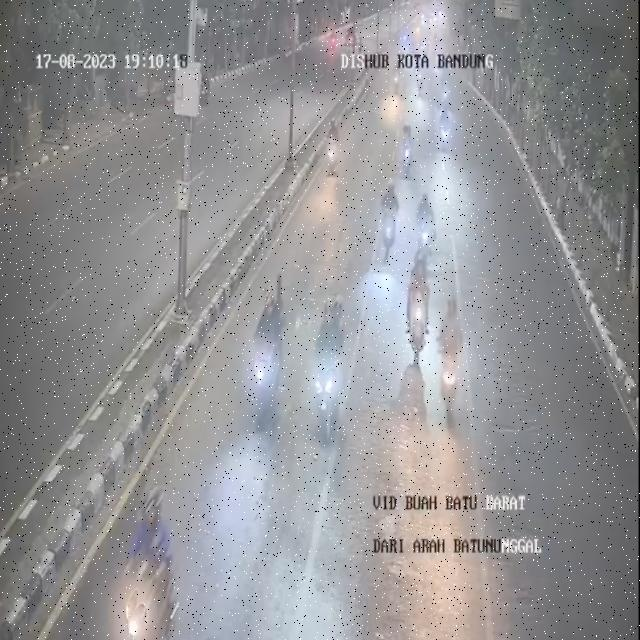motorcycle: (115, 481, 184, 640), (248, 278, 289, 430), (310, 295, 350, 442), (436, 290, 468, 428), (402, 247, 430, 359), (376, 178, 401, 266), (323, 116, 348, 186), (413, 191, 436, 263), (398, 120, 417, 180), (437, 105, 456, 158)
